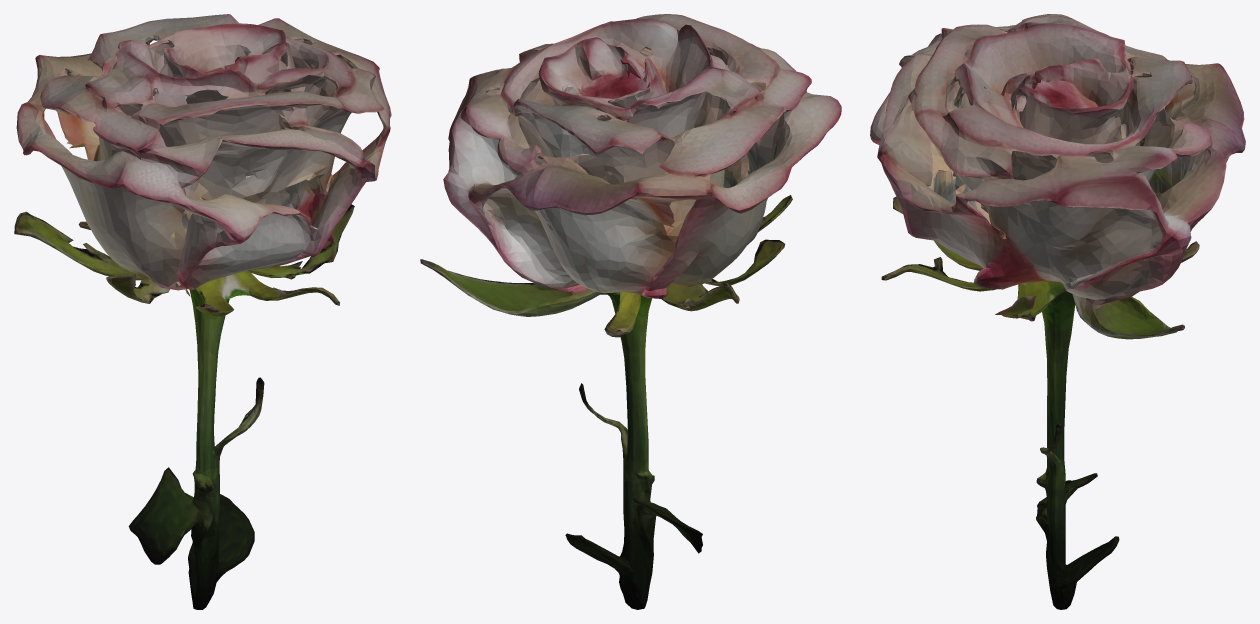
The picture shows the model from 3 angles, left to right: view 1: azimuth 30°, elevation 25°; view 2: azimuth 150°, elevation 25°; view 3: azimuth 270°, elevation 25°; orthographic projection. The views are drawn at different scales.
Parts seen in each view (by area): view 1: world; view 2: world; view 3: world.
Boxes of the visible parts, x1,y1,x2,y2 form: world: (14, 14, 391, 609); world: (420, 14, 841, 609); world: (870, 14, 1245, 609).
Bounding box in the file's own units: 0.6031 × 0.9682 × 0.5846.
1 material, 1 textured.
